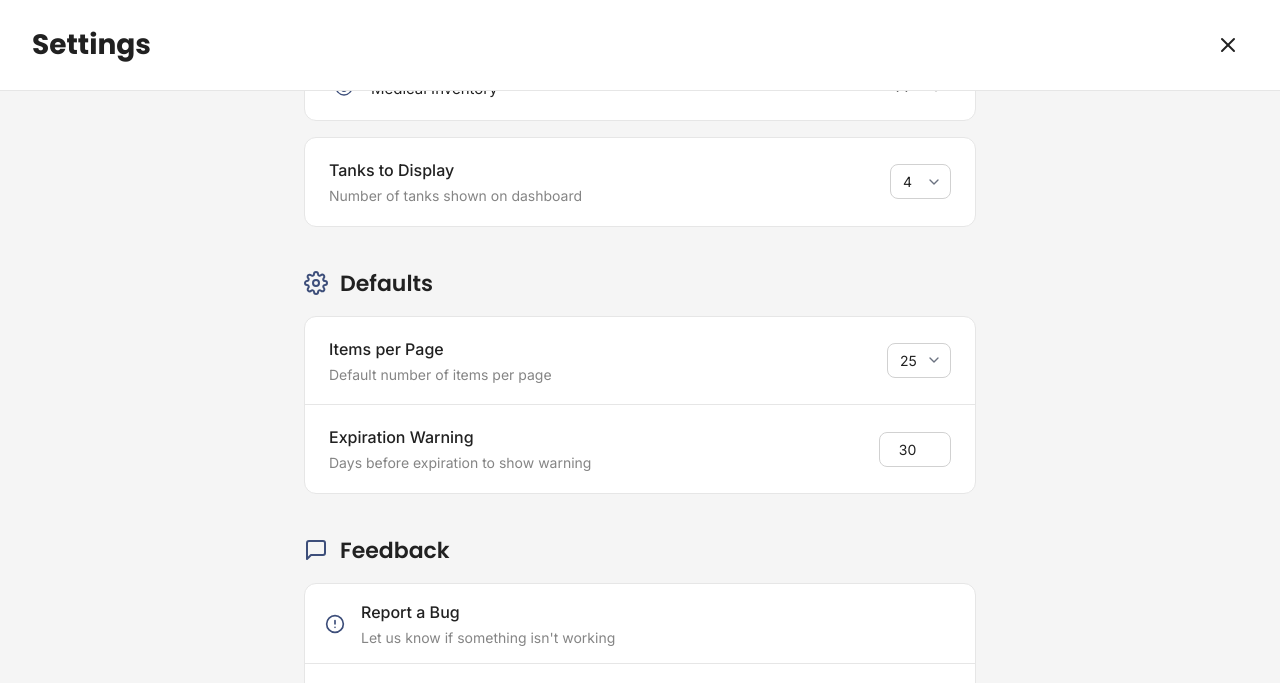
Test case: Settings Page › unsaved changes indicator › shows unsaved changes indicator when settings are modified
(page scrolled)
expect the text "Unsaved changes" is not shown: met
Change a setting
Select "50" in the dropdown showing "25" in the row of "Default number of items per page" at (919, 360), box [887,343,951,378]
(page scrolled)
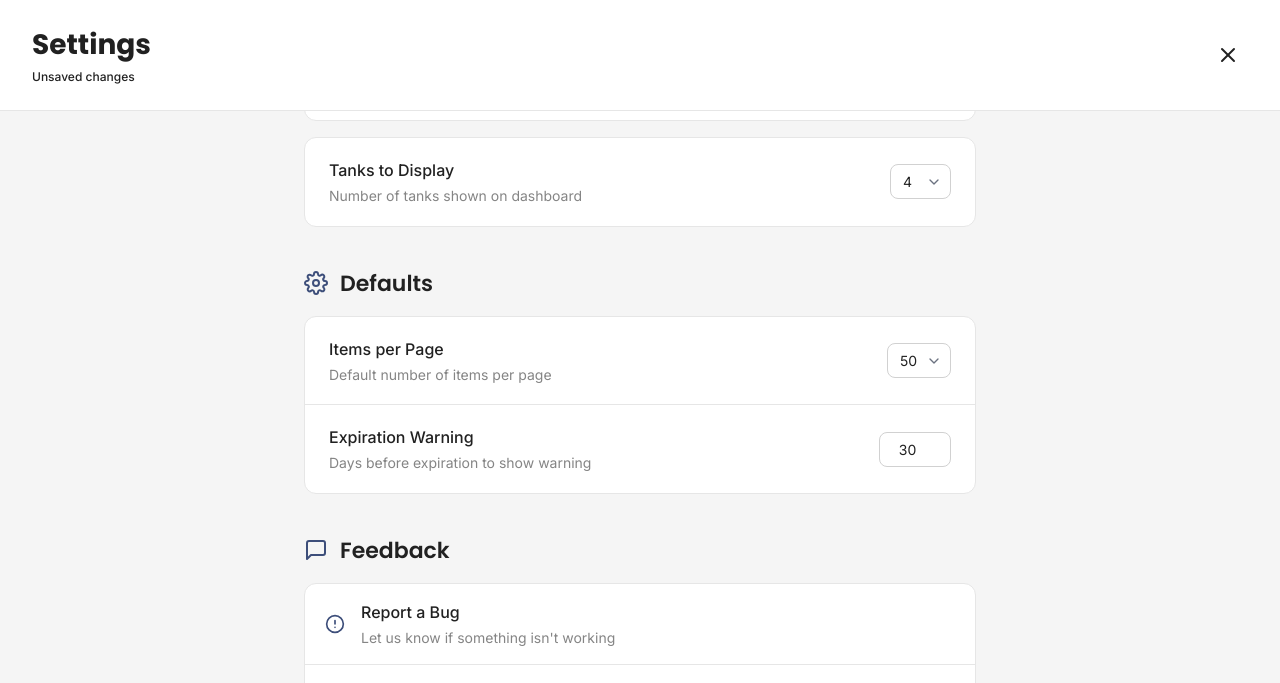
expect the text "Unsaved changes" is shown: met, box [32,68,151,86]
